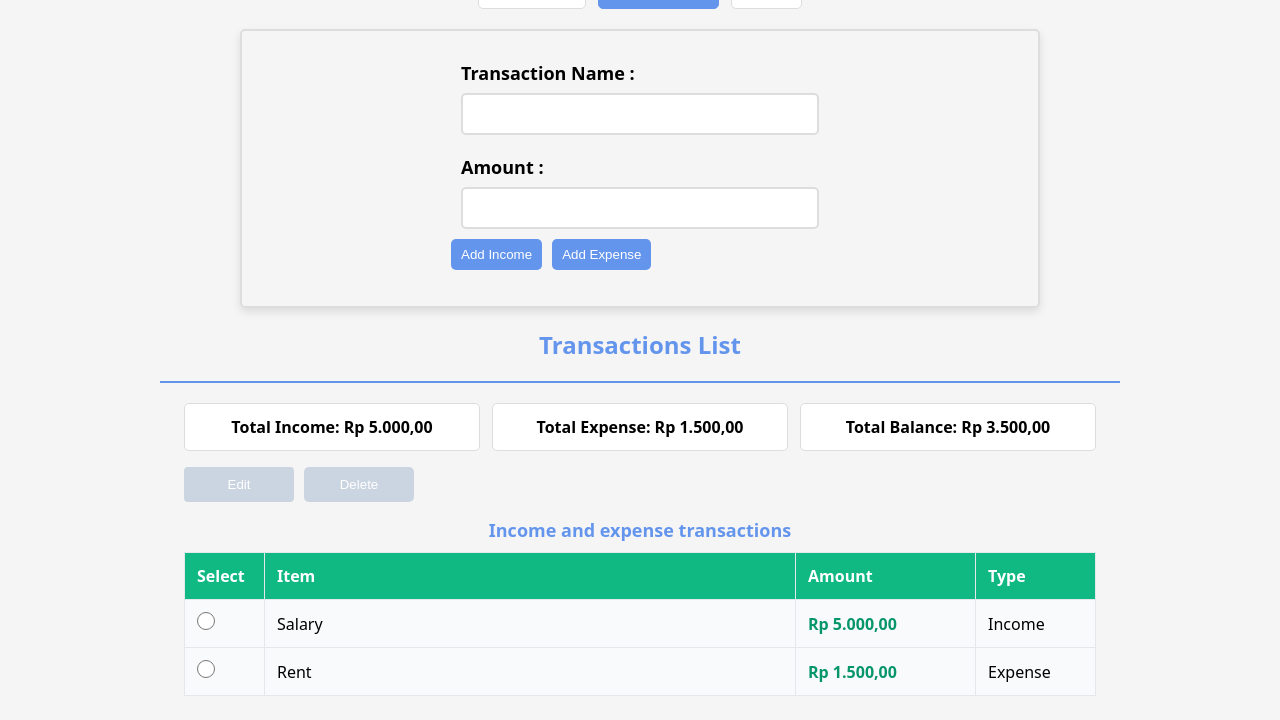
Test: submits edited income values and closes the edit modal
(page scrolled)
Expected: the text "Salary" is shown, [264,600,796,648]
Expected: the text "Rent" is shown, [264,648,796,696]
Click the radio button named "select income salary" next to "Salary". click: (206, 621)
box: [197,612,215,630]
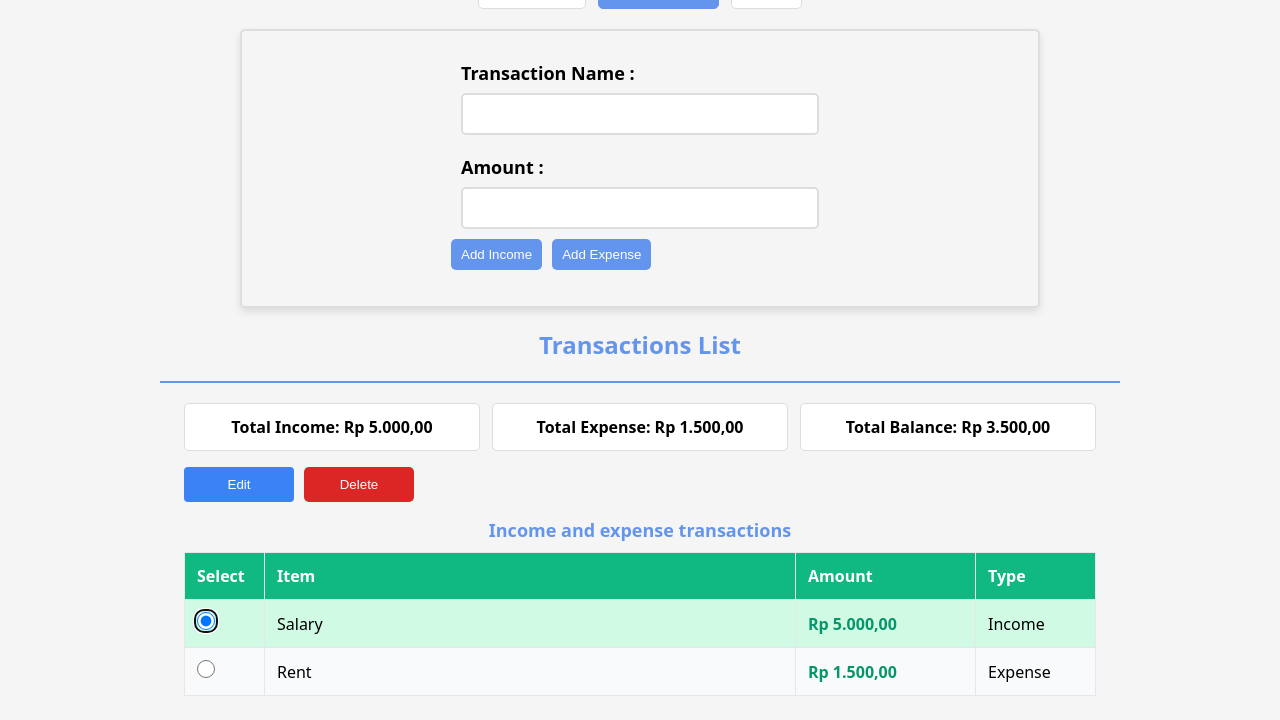
Click the button "Edit". click: (239, 484)
box: [184,467,294,502]
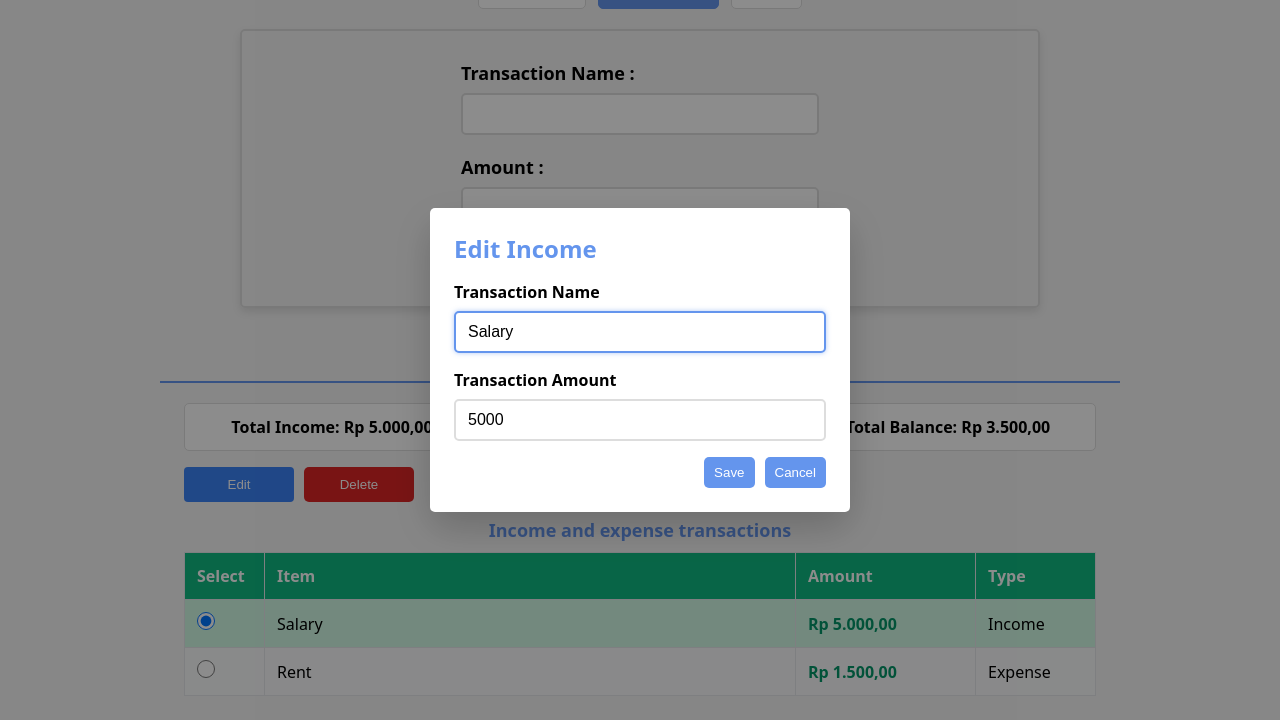
Replace the text in the field labelled "Transaction Name" with "Updated Salary". click: (640, 332)
box: [454,311,826,353]
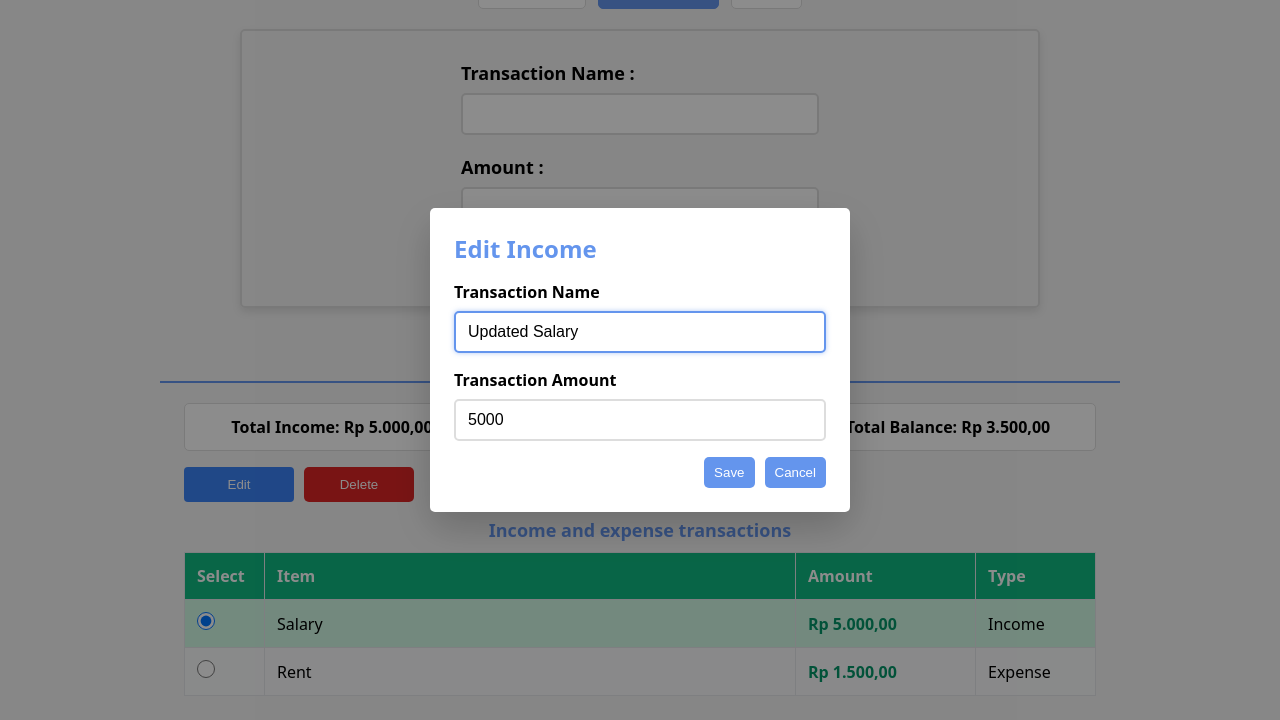
Replace the text in the number field labelled "Transaction Amount" with "6000". click: (640, 420)
box: [454,399,826,441]
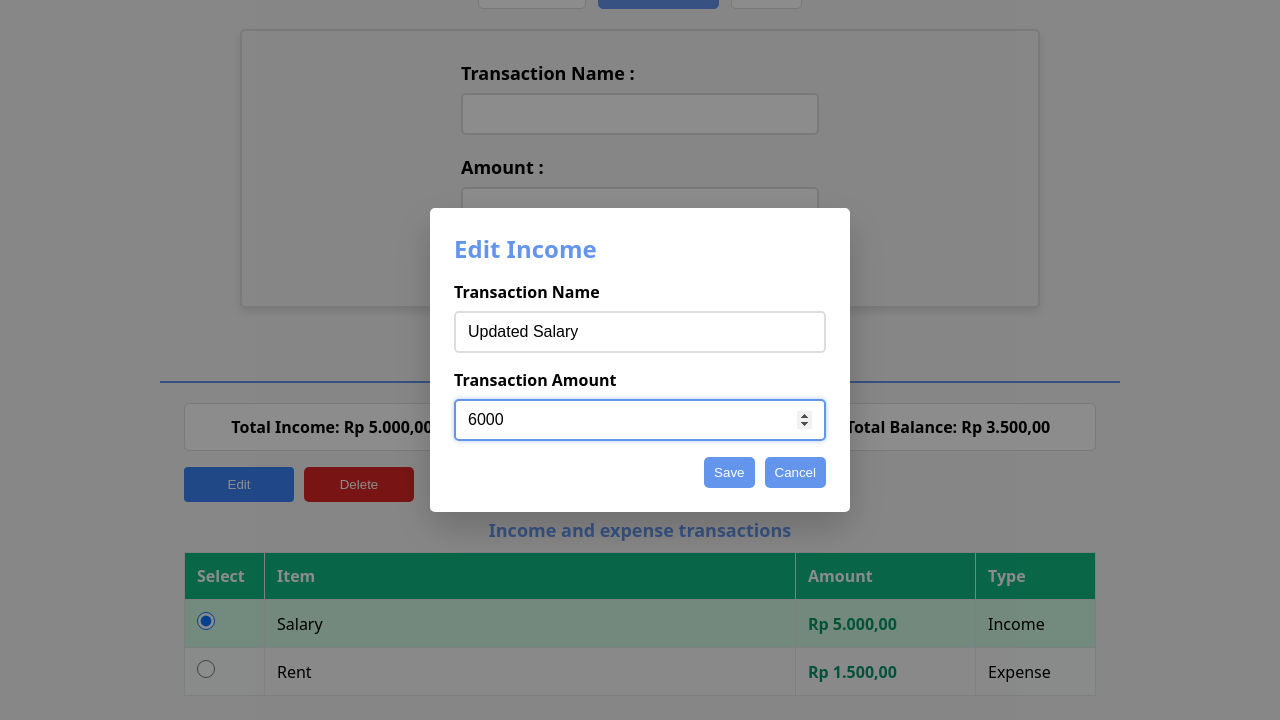
Click the button "Save". click: (729, 472)
box: [704,457,754,488]
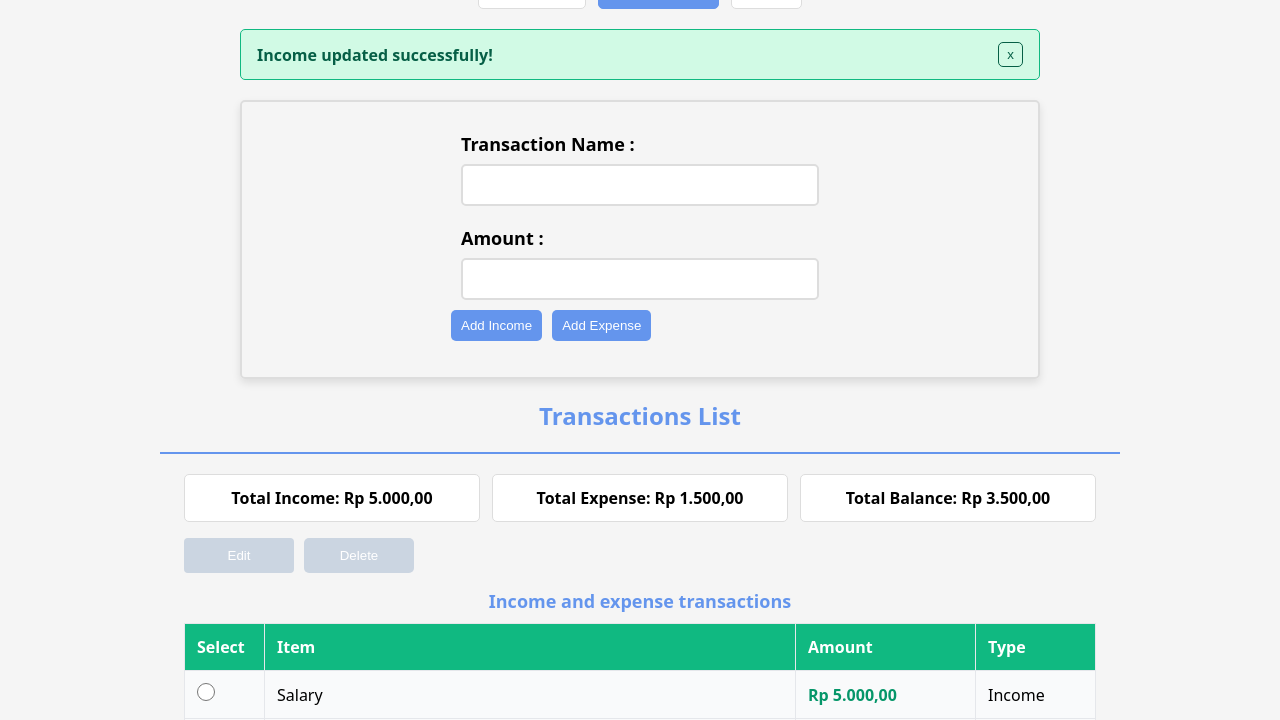
Result: the dialog is gone
Result: the text "Income updated successfully!" is shown at [257,44,493,66]
Result: the message "Income updated successfully! x" is shown at [240,29,1040,80]
